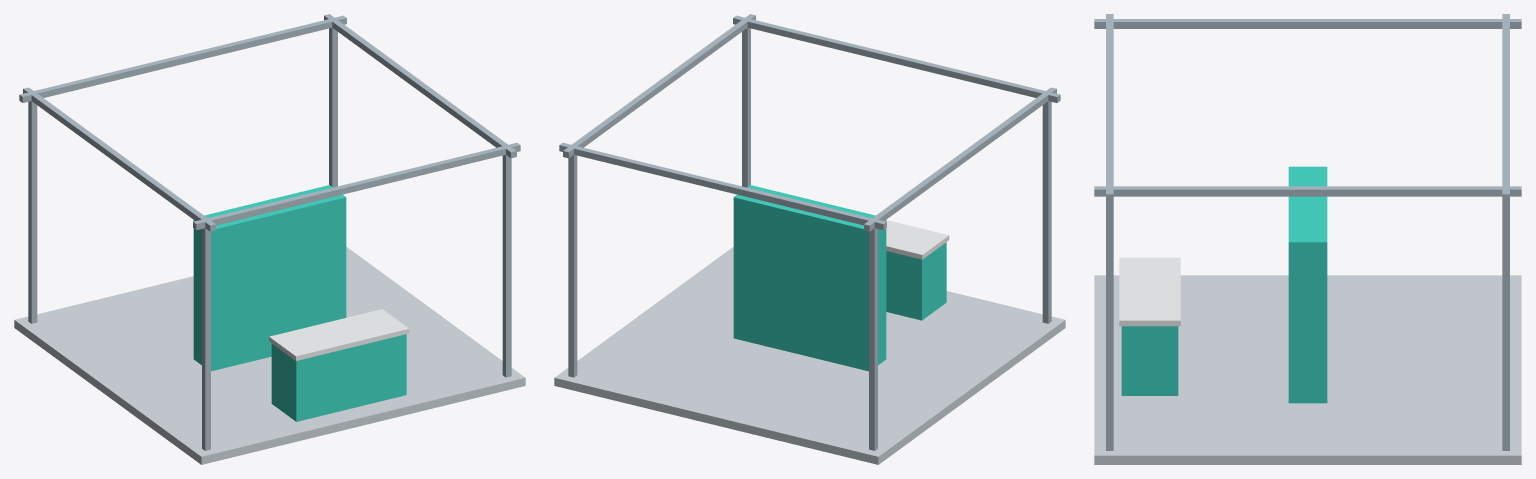
3 views of the same model, side by side, from view 1: azimuth 30°, elevation 25°; view 2: azimuth 150°, elevation 25°; view 3: azimuth 270°, elevation 25° (orthographic). The views are drawn at different scales.
Visible parts, largest first — view 1: Exhibition Booth Concept; view 2: Exhibition Booth Concept; view 3: Exhibition Booth Concept.
Boxes of the visible parts, <box> form: Exhibition Booth Concept: <box>14,14,525,464</box>; Exhibition Booth Concept: <box>554,14,1065,464</box>; Exhibition Booth Concept: <box>1094,14,1521,464</box>.
Bounding box in the file's own units: 5 × 3.49 × 5.
